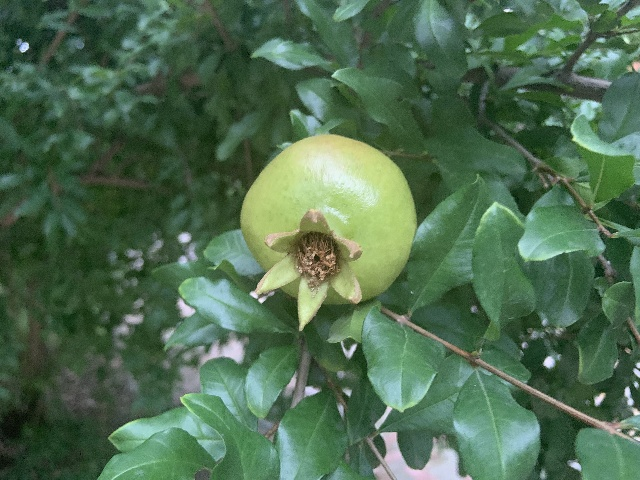mid-growth: (238, 133, 417, 331)
